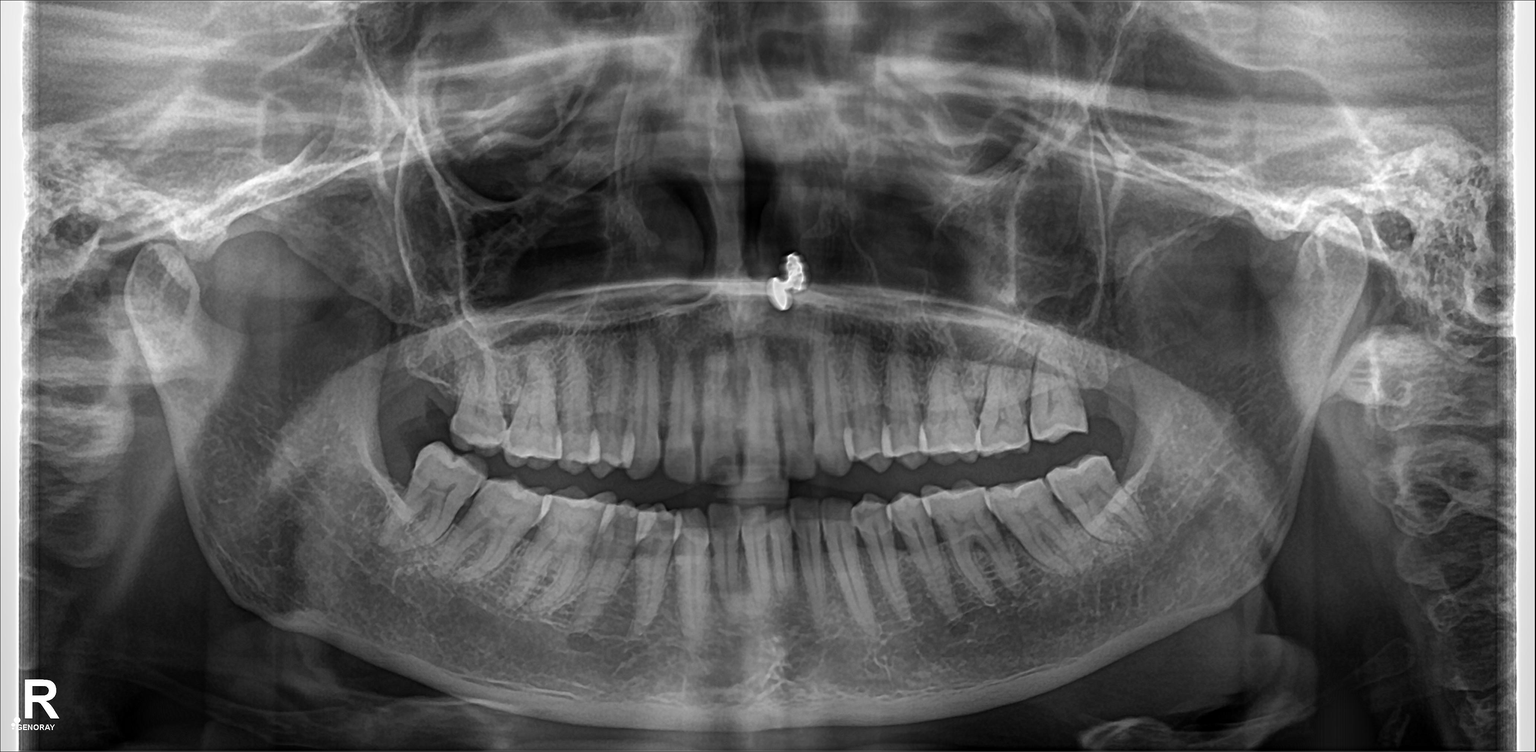Missing Tooth: (397, 333, 453, 439), (1080, 344, 1128, 436), (369, 426, 410, 515)
